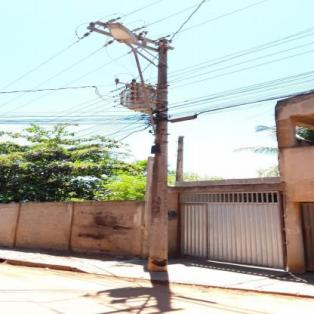Poste: (142, 32, 172, 274)
